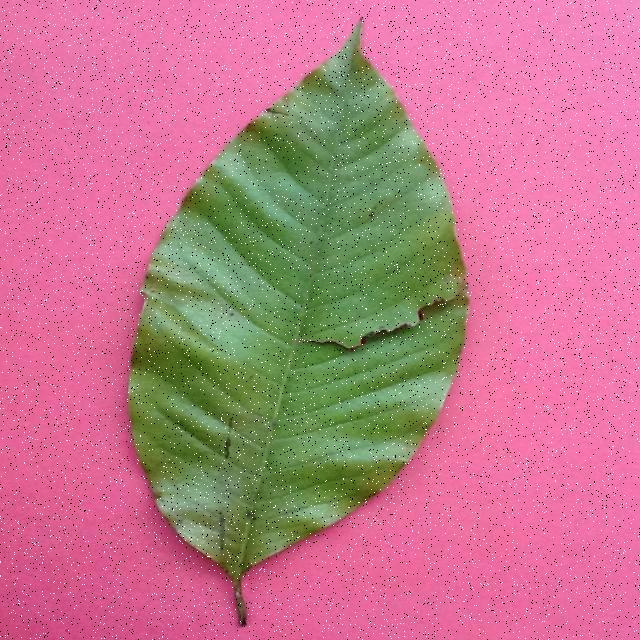foliage: (126, 7, 478, 626)
